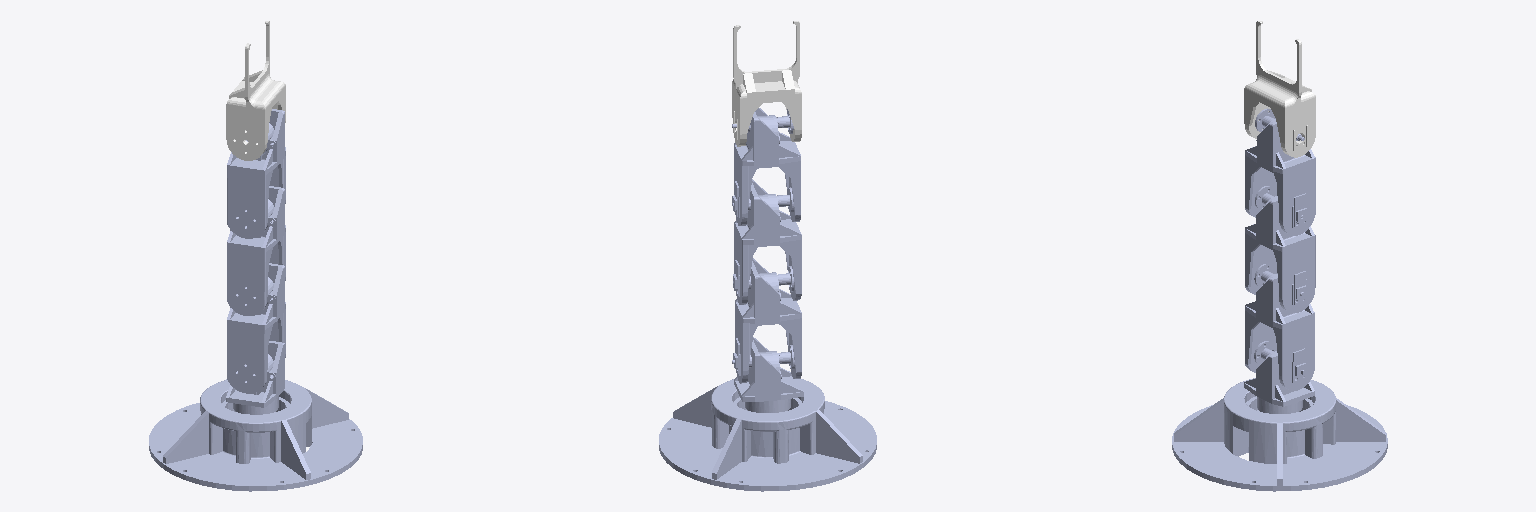
robot.urdf — mybot_description:
<robot
  name="mybot_description">
  <link
    name="base_link">
    <inertial>
      <origin
        xyz="0.00059823 -0.00070645 0.015343"
        rpy="0 0 0" />
      <mass
        value="0.31947" />
      <inertia
        ixx="0.00052125"
        ixy="1.1384E-07"
        ixz="-2.2716E-06"
        iyy="0.0005196"
        iyz="2.4232E-06"
        izz="0.00091204" />
    </inertial>
    <visual>
      <origin
        xyz="0 0 0"
        rpy="0 0 0" />
      <geometry>
        <mesh
          filename="package://mybot_description/meshes/base_link.STL" />
      </geometry>
      <material
        name="">
        <color
          rgba="0.79216 0.81961 0.93333 1" />
      </material>
    </visual>
    <collision>
      <origin
        xyz="0 0 0"
        rpy="0 0 0" />
      <geometry>
        <mesh
          filename="package://mybot_description/meshes/base_link.STL" />
      </geometry>
    </collision>
  </link>
  <link
    name="link0">
    <inertial>
      <origin
        xyz="0.0015406 0.0013202 0.030331"
        rpy="0 0 0" />
      <mass
        value="0.053848" />
      <inertia
        ixx="1.7354E-05"
        ixy="4.9601E-07"
        ixz="-1.0513E-06"
        iyy="1.7196E-05"
        iyz="-9.0113E-07"
        izz="1.3819E-05" />
    </inertial>
    <visual>
      <origin
        xyz="0 0 0"
        rpy="0 0 0" />
      <geometry>
        <mesh
          filename="package://mybot_description/meshes/link0.STL" />
      </geometry>
      <material
        name="">
        <color
          rgba="0.79216 0.81961 0.93333 1" />
      </material>
    </visual>
    <collision>
      <origin
        xyz="0 0 0"
        rpy="0 0 0" />
      <geometry>
        <mesh
          filename="package://mybot_description/meshes/link0.STL" />
      </geometry>
    </collision>
  </link>
  <joint
    name="joint0"
    type="revolute">
    <origin
      xyz="0 0 0.032517"
      rpy="-1.3289E-17 -1.2317E-16 -1.1102E-14" />
    <parent
      link="base_link" />
    <child
      link="link0" />
    <axis
      xyz="0 0 1" />
    <limit
      lower="-3.14"
      upper="3.14"
      effort="1"
      velocity="0.5" />
  </joint>
  <link
    name="link1">
    <inertial>
      <origin
        xyz="0.023455 -1.7325E-08 0.044232"
        rpy="0 0 0" />
      <mass
        value="0.066865" />
      <inertia
        ixx="5.3591E-05"
        ixy="-9.3675E-12"
        ixz="2.5595E-06"
        iyy="6.2629E-05"
        iyz="1.3043E-10"
        izz="2.7389E-05" />
    </inertial>
    <visual>
      <origin
        xyz="0 0 0"
        rpy="0 0 0" />
      <geometry>
        <mesh
          filename="package://mybot_description/meshes/link1.STL" />
      </geometry>
      <material
        name="">
        <color
          rgba="0.79216 0.81961 0.93333 1" />
      </material>
    </visual>
    <collision>
      <origin
        xyz="0 0 0"
        rpy="0 0 0" />
      <geometry>
        <mesh
          filename="package://mybot_description/meshes/link1.STL" />
      </geometry>
    </collision>
  </link>
  <joint
    name="joint1"
    type="revolute">
    <origin
      xyz="0.019303 0.016509 0.048983"
      rpy="-2.7272E-16 -4.6161E-16 -2.434" />
    <parent
      link="link0" />
    <child
      link="link1" />
    <axis
      xyz="-1 0 0" />
    <limit
      lower="-1.05"
      upper="1.05"
      effort="1"
      velocity="0.5" />
  </joint>
  <link
    name="link2">
    <inertial>
      <origin
        xyz="0.023455 -7.9525E-09 0.044232"
        rpy="0 0 0" />
      <mass
        value="0.066865" />
      <inertia
        ixx="5.3591E-05"
        ixy="-3.5917E-13"
        ixz="2.5596E-06"
        iyy="6.2629E-05"
        iyz="1.4247E-10"
        izz="2.7389E-05" />
    </inertial>
    <visual>
      <origin
        xyz="0 0 0"
        rpy="0 0 0" />
      <geometry>
        <mesh
          filename="package://mybot_description/meshes/link2.STL" />
      </geometry>
      <material
        name="">
        <color
          rgba="0.79216 0.81961 0.93333 1" />
      </material>
    </visual>
    <collision>
      <origin
        xyz="0 0 0"
        rpy="0 0 0" />
      <geometry>
        <mesh
          filename="package://mybot_description/meshes/link2.STL" />
      </geometry>
    </collision>
  </link>
  <joint
    name="joint2"
    type="revolute">
    <origin
      xyz="-0.0004 0 0.0745"
      rpy="2.5246E-18 1.9213E-15 3.8858E-16" />
    <parent
      link="link1" />
    <child
      link="link2" />
    <axis
      xyz="-1 0 0" />
    <limit
      lower="-1.05"
      upper="1.05"
      effort="1"
      velocity="0.5" />
  </joint>
  <link
    name="link3">
    <inertial>
      <origin
        xyz="0.023455 -1.7325E-08 0.044232"
        rpy="0 0 0" />
      <mass
        value="0.066865" />
      <inertia
        ixx="5.3591E-05"
        ixy="-9.3675E-12"
        ixz="2.5595E-06"
        iyy="6.2629E-05"
        iyz="1.3043E-10"
        izz="2.7389E-05" />
    </inertial>
    <visual>
      <origin
        xyz="0 0 0"
        rpy="0 0 0" />
      <geometry>
        <mesh
          filename="package://mybot_description/meshes/link3.STL" />
      </geometry>
      <material
        name="">
        <color
          rgba="0.79216 0.81961 0.93333 1" />
      </material>
    </visual>
    <collision>
      <origin
        xyz="0 0 0"
        rpy="0 0 0" />
      <geometry>
        <mesh
          filename="package://mybot_description/meshes/link3.STL" />
      </geometry>
    </collision>
  </link>
  <joint
    name="joint3"
    type="revolute">
    <origin
      xyz="-0.0004 0 0.0745"
      rpy="1.8711E-17 -2.2428E-15 -5.5511E-16" />
    <parent
      link="link2" />
    <child
      link="link3" />
    <axis
      xyz="-1 0 0" />
    <limit
      lower="-1.05"
      upper="1.05"
      effort="1"
      velocity="0.5" />
  </joint>
  <link
    name="gripper">
    <inertial>
      <origin
        xyz="0.027134 -0.00019736 0.02219"
        rpy="0 0 0" />
      <mass
        value="0.041798" />
      <inertia
        ixx="1.9479E-05"
        ixy="-1.1068E-09"
        ixz="1.5196E-07"
        iyy="3.3475E-05"
        iyz="9.0738E-08"
        izz="2.3209E-05" />
    </inertial>
    <visual>
      <origin
        xyz="0 0 0"
        rpy="0 0 0" />
      <geometry>
        <mesh
          filename="package://mybot_description/meshes/gripper.STL" />
      </geometry>
      <material
        name="">
        <color
          rgba="1 1 1 1" />
      </material>
    </visual>
    <collision>
      <origin
        xyz="0 0 0"
        rpy="0 0 0" />
      <geometry>
        <mesh
          filename="package://mybot_description/meshes/gripper.STL" />
      </geometry>
    </collision>
  </link>
  <joint
    name="joint4"
    type="revolute">
    <origin
      xyz="-0.0014 0 0.0745"
      rpy="2.4063E-16 1.3381E-15 1.0547E-15" />
    <parent
      link="link3" />
    <child
      link="gripper" />
    <axis
      xyz="-1 0 0" />
    <limit
      lower="-1.05"
      upper="1.05"
      effort="1"
      velocity="0.5" />
  </joint>
</robot>

--- What the picture shows (computed from the rendered views, not written in the file) ---
The picture shows the robot from 3 angles, left to right: view 1: azimuth 30°, elevation 25°; view 2: azimuth 150°, elevation 25°; view 3: azimuth 270°, elevation 25°; orthographic projection.
Model mybot_description with 6 links and 5 joints (5 revolute), rooted at base_link, posed all joints at 0.
Visible links, largest first — view 1: base_link, link3, link1, link2, gripper, link0; view 2: base_link, link2, link1, link3, gripper, link0; view 3: base_link, link3, link2, link1, gripper, link0.
Boxes of the visible links, x1,y1,x2,y2 form: base_link: (149,379,362,491); link3: (227,109,285,238); link1: (227,263,285,393); link2: (227,186,285,315); gripper: (226,21,285,160); link0: (226,341,284,414); base_link: (659,379,876,491); link2: (732,179,801,304); link1: (733,258,801,383); link3: (732,108,800,225); gripper: (732,21,801,146); link0: (732,337,803,412); base_link: (1172,378,1387,491); link3: (1245,108,1315,235); link2: (1245,186,1315,312); link1: (1245,264,1314,390); gripper: (1244,21,1315,157); link0: (1244,341,1314,413).
Bounding box of the posed robot: 0.1878 × 0.1878 × 0.399 m (x, y, z).
Meshes: 6 distinct files referenced, 6 mesh visuals loaded (6 binary STL).